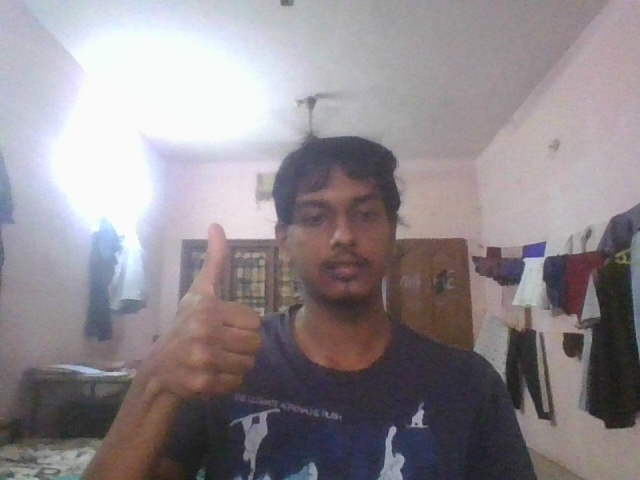thumbsup: (146, 216, 268, 405)
